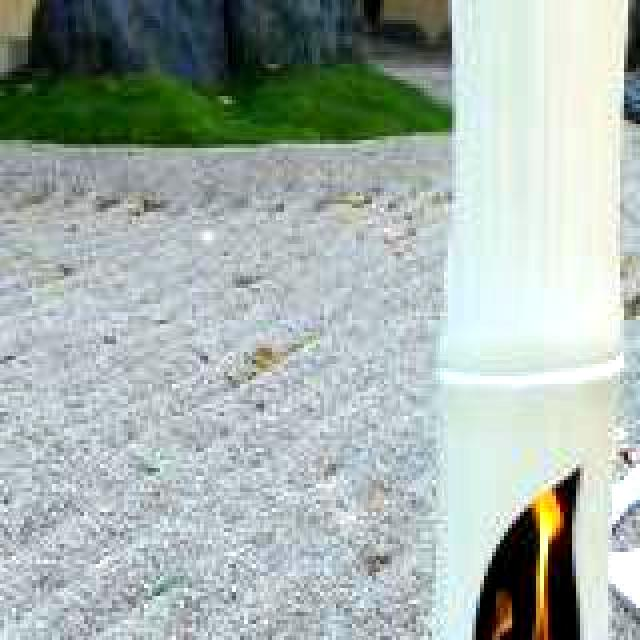fire: (480, 500, 580, 640)
